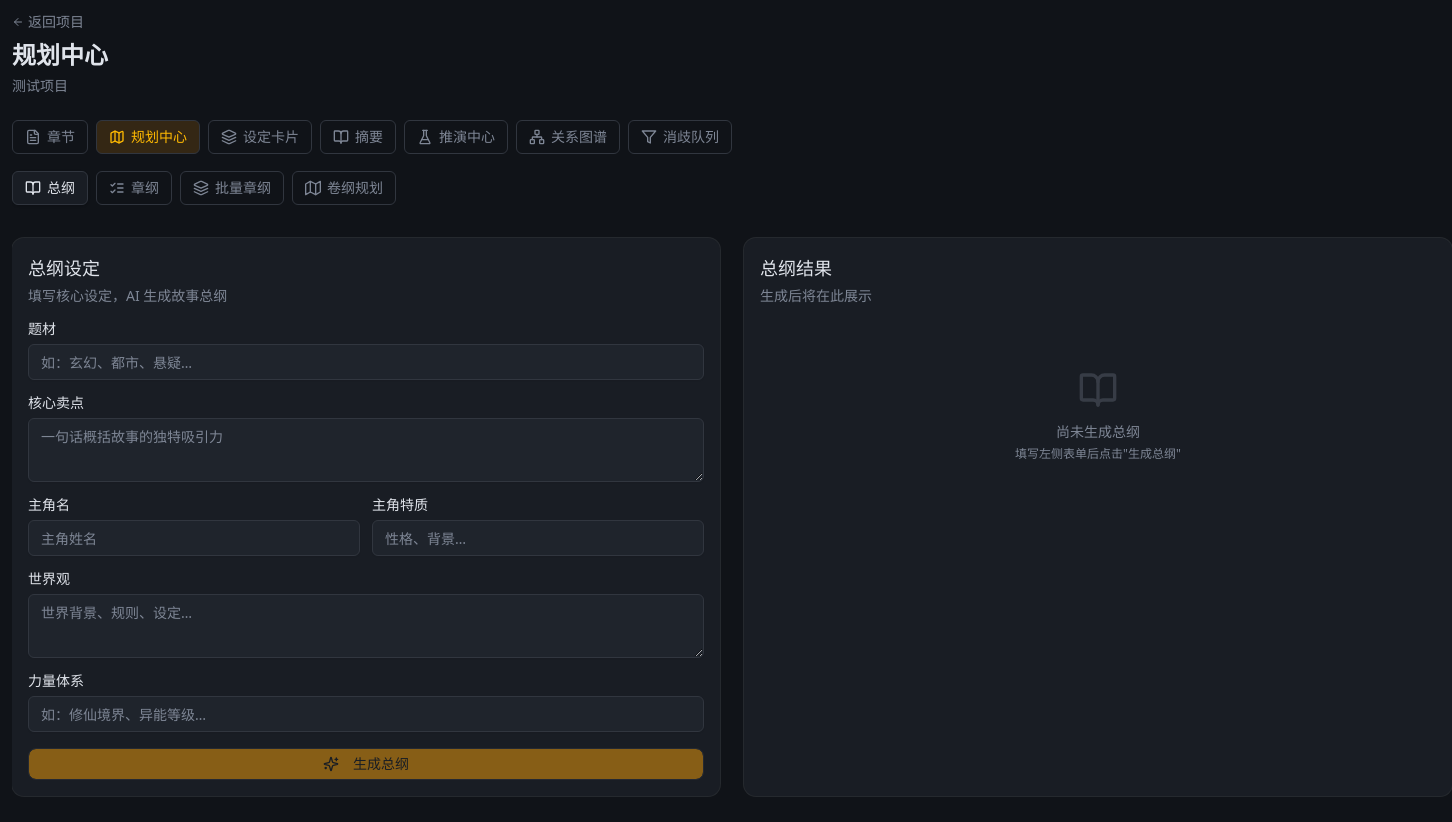
Test: PlanningCenter › outline: shows warning when no synopsis
Expected: the text "测试项目" is shown, [12,76,68,95]
Step 1. Click the tab "章纲" → (134, 188), box [96,171,172,205]
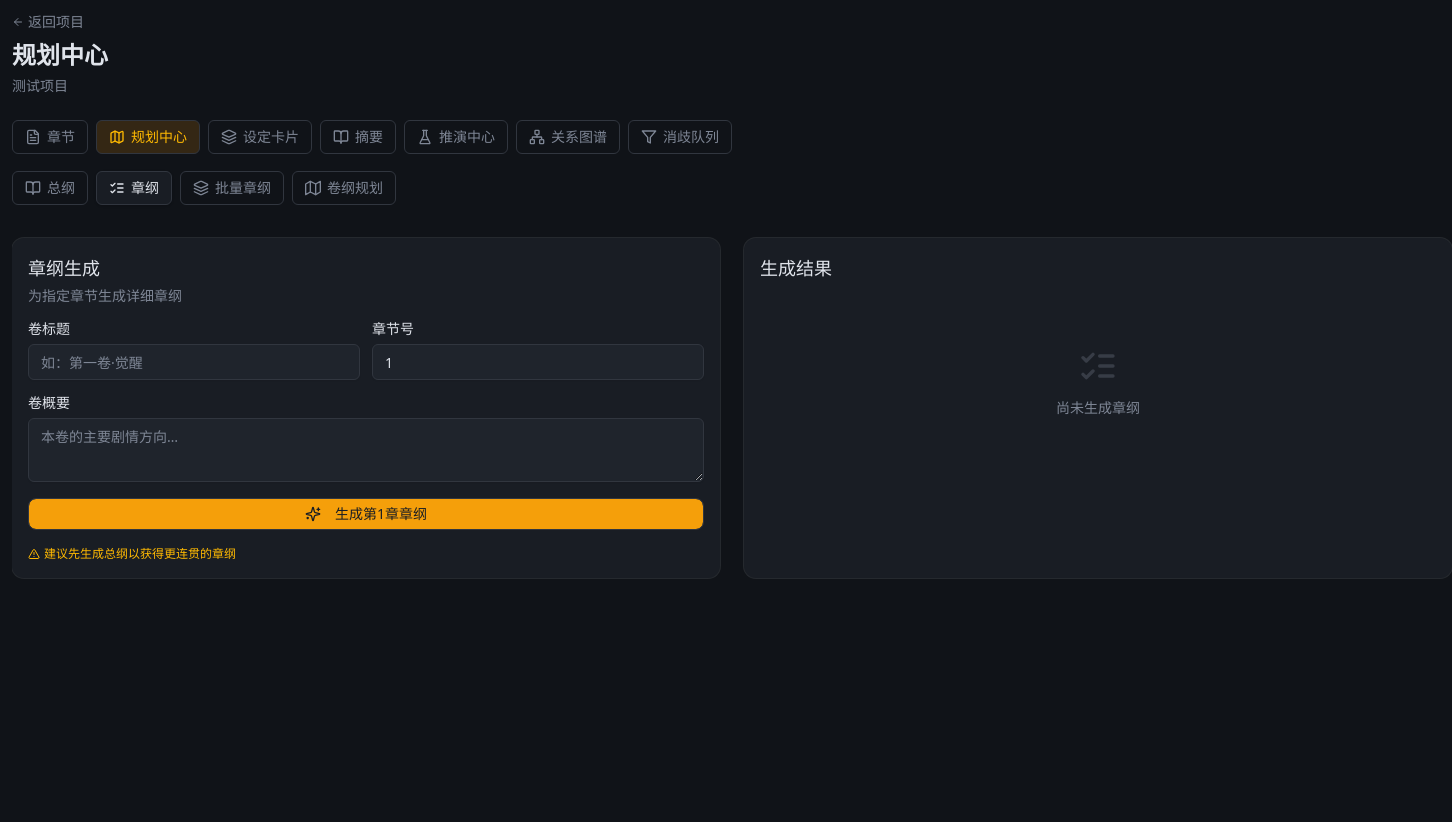
Result: the text "建议先生成总纲以获得更连贯的章纲" is shown at [28,545,236,562]
